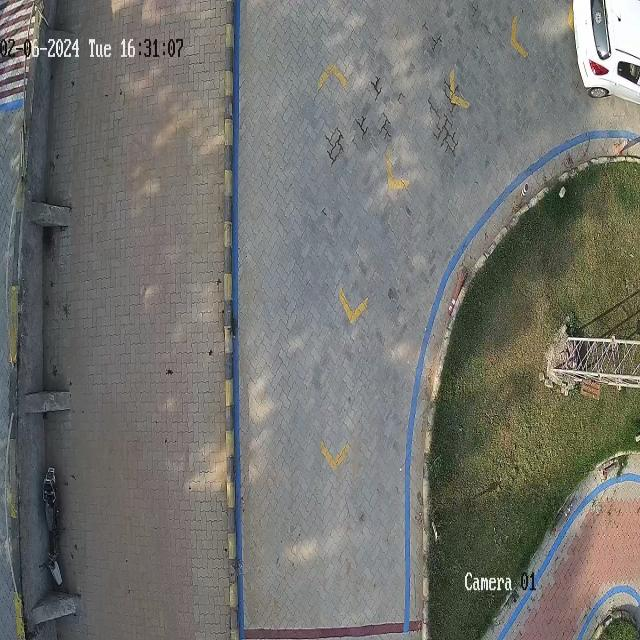car: (571, 0, 640, 104)
